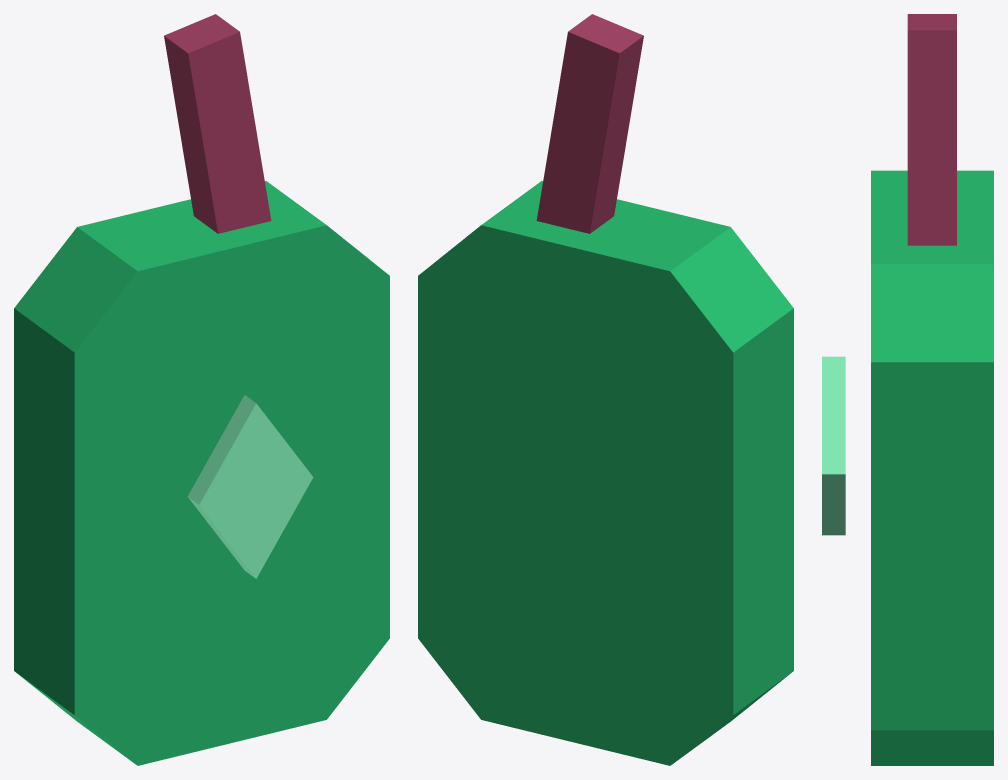
Rendered from jade_tablet.obj.
3 views of the same model, side by side, from view 1: azimuth 30°, elevation 25°; view 2: azimuth 150°, elevation 25°; view 3: azimuth 270°, elevation 25° (orthographic).
Visible parts, largest first — view 1: jade_tablet, jade_tablet_edge, tablet_cord, tablet_glint, tablet_cord_edge, tablet_glint_edge; view 2: jade_tablet, jade_tablet_edge, tablet_cord, tablet_cord_edge; view 3: jade_tablet_edge, tablet_cord_edge, tablet_glint_edge.
Boxes of the visible parts, x1=… form: jade_tablet: x1=74, y1=225, x2=389, y2=765; jade_tablet_edge: x1=14, y1=181, x2=326, y2=764; tablet_cord: x1=188, y1=32, x2=271, y2=233; tablet_glint: x1=199, y1=403, x2=313, y2=578; tablet_cord_edge: x1=164, y1=14, x2=239, y2=233; tablet_glint_edge: x1=187, y1=395, x2=256, y2=578; jade_tablet: x1=418, y1=225, x2=733, y2=765; jade_tablet_edge: x1=481, y1=181, x2=793, y2=764; tablet_cord: x1=536, y1=32, x2=619, y2=233; tablet_cord_edge: x1=568, y1=14, x2=643, y2=233; jade_tablet_edge: x1=871, y1=170, x2=993, y2=765; tablet_cord_edge: x1=907, y1=14, x2=956, y2=245; tablet_glint_edge: x1=822, y1=356, x2=845, y2=535.
Bounding box in the file's own units: 0.3 × 0.6291 × 0.1396.
